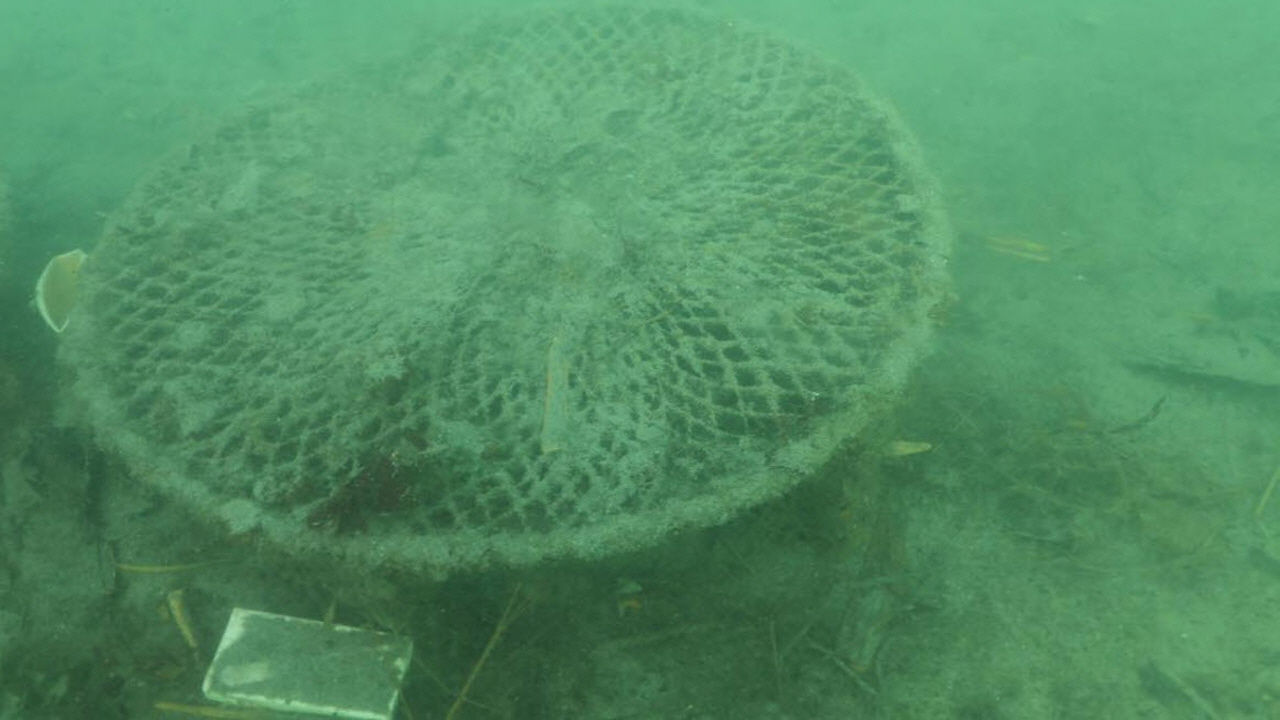circular fish trap: (69, 6, 950, 569)
